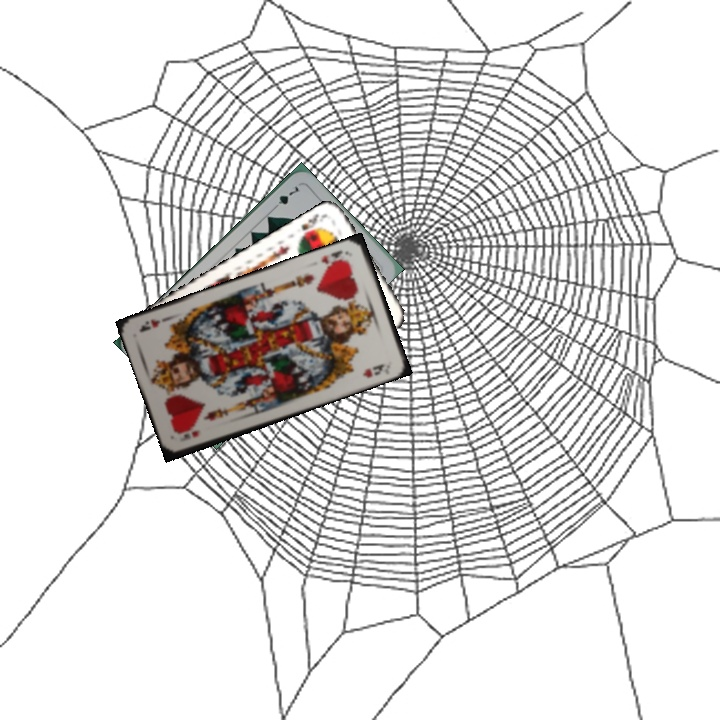G7: (268, 181, 301, 213)
HK: (317, 246, 352, 270), (176, 426, 202, 444)
SK: (297, 209, 330, 242)
